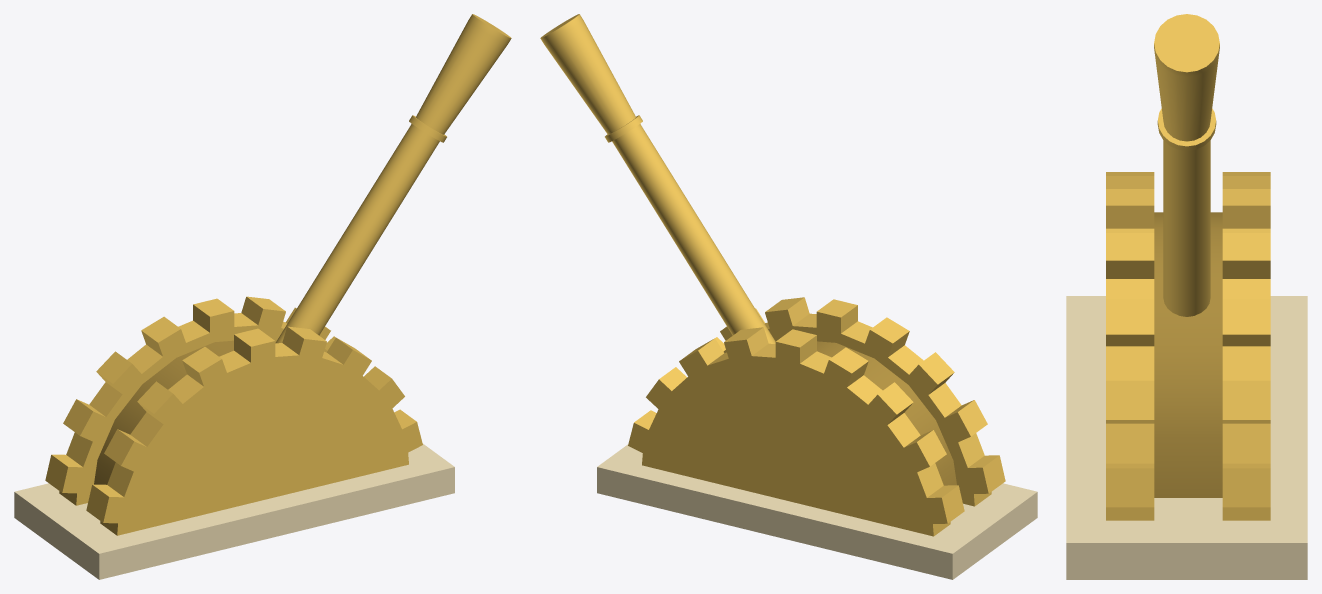
The model's file is bDevice.fbx.
3 renders of one model, left to right at view 1: azimuth 30°, elevation 25°; view 2: azimuth 150°, elevation 25°; view 3: azimuth 270°, elevation 25°, orthographic. The views are drawn at different scales.
Parts seen in each view (by area): view 1: bDeviceMain, bDeviceHandle; view 2: bDeviceMain, bDeviceHandle; view 3: bDeviceMain, bDeviceHandle.
Part boxes in pixels (x1,y1,x2,y2): bDeviceMain: (14, 296, 454, 579); bDeviceHandle: (275, 14, 511, 343); bDeviceMain: (597, 297, 1037, 579); bDeviceHandle: (540, 14, 775, 343); bDeviceMain: (1066, 172, 1307, 579); bDeviceHandle: (1154, 14, 1219, 316).
Bounding box in the file's own units: 343 × 312 × 112.
Materials: 1 (1 with a texture image).
